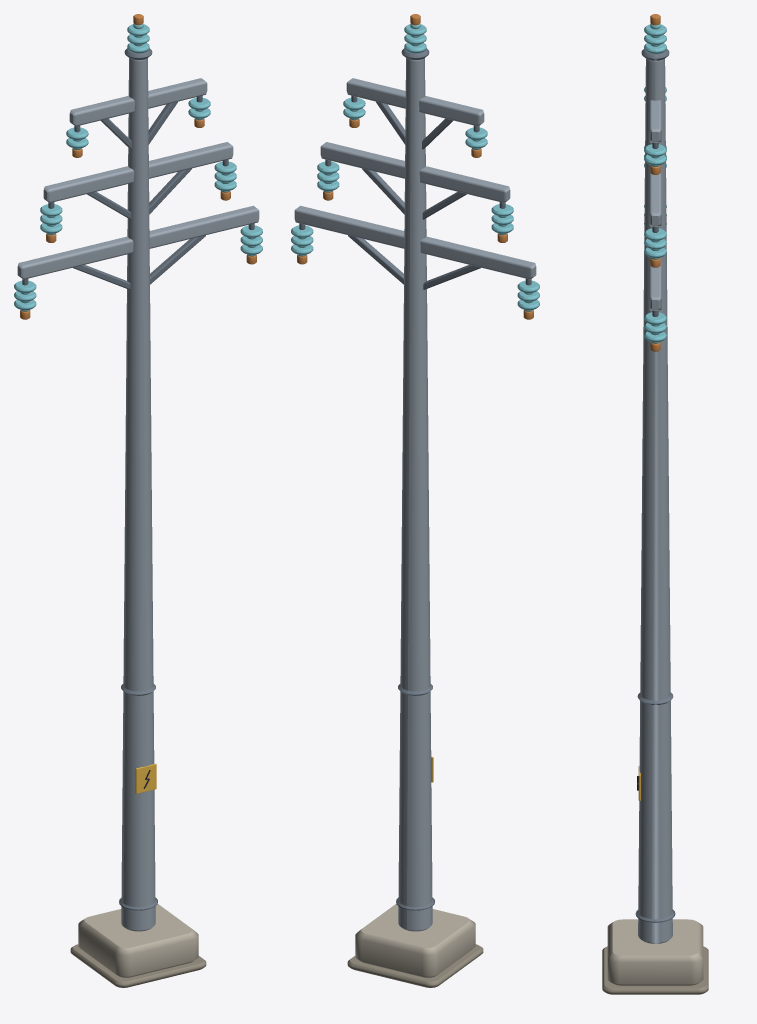
Rendered from poteau_haute_tension.glb.
The picture shows the model from 3 angles, left to right: view 1: azimuth 30°, elevation 25°; view 2: azimuth 150°, elevation 25°; view 3: azimuth 270°, elevation 25°; orthographic projection.
Parts seen in each view (by area): view 1: pieces_pylone.004, pieces_socle_beton.004, pieces_isolateur_verre.004, pieces_pylone_sombre.004, pieces_socle_beton_sombre.002, pieces_isolateur_cuivre.004; view 2: pieces_pylone.004, pieces_socle_beton.004, pieces_isolateur_verre.004, pieces_pylone_sombre.004, pieces_socle_beton_sombre.002, pieces_isolateur_cuivre.004; view 3: pieces_pylone.004, pieces_socle_beton.004, pieces_isolateur_verre.004, pieces_socle_beton_sombre.002, pieces_pylone_sombre.004.
Part boxes in pixels (bbox=[...]): pieces_pylone.004: bbox=[17, 58, 259, 931]; pieces_socle_beton.004: bbox=[78, 904, 198, 977]; pieces_isolateur_verre.004: bbox=[14, 24, 262, 311]; pieces_pylone_sombre.004: bbox=[22, 48, 254, 910]; pieces_socle_beton_sombre.002: bbox=[70, 944, 206, 987]; pieces_isolateur_cuivre.004: bbox=[20, 14, 256, 319]; pieces_pylone.004: bbox=[294, 58, 536, 931]; pieces_socle_beton.004: bbox=[355, 904, 475, 977]; pieces_isolateur_verre.004: bbox=[291, 24, 539, 311]; pieces_pylone_sombre.004: bbox=[299, 48, 531, 910]; pieces_socle_beton_sombre.002: bbox=[347, 944, 483, 987]; pieces_isolateur_cuivre.004: bbox=[297, 14, 533, 319]; pieces_pylone.004: bbox=[638, 58, 672, 943]; pieces_socle_beton.004: bbox=[607, 919, 703, 985]; pieces_isolateur_verre.004: bbox=[644, 24, 666, 343]; pieces_socle_beton_sombre.002: bbox=[602, 946, 708, 994]; pieces_pylone_sombre.004: bbox=[635, 49, 675, 922].
Bounding box in the file's own units: 1.65 × 6.06 × 1.
